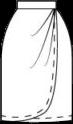Hemline: (1, 9, 58, 121), (18, 119, 71, 121)
Waistline: (17, 7, 55, 9), (16, 0, 56, 1)
